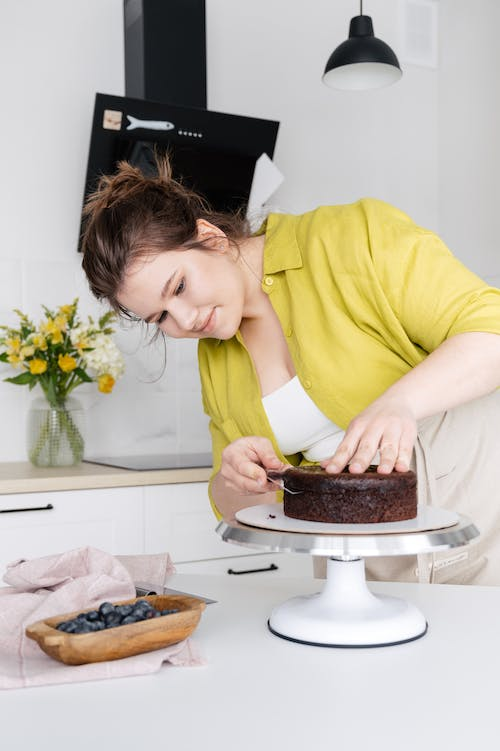knife: (262, 466, 314, 498)
